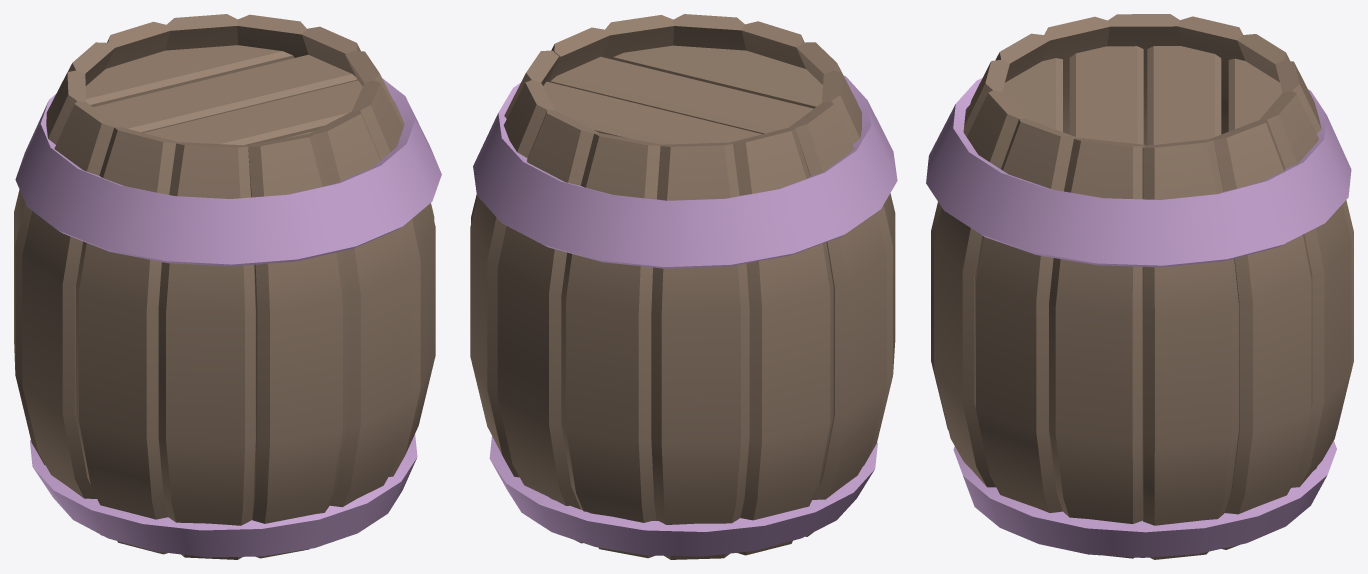
File: barrel pink.fbx
3 renders of one model, left to right at view 1: azimuth 30°, elevation 25°; view 2: azimuth 150°, elevation 25°; view 3: azimuth 270°, elevation 25°, orthographic.
Visible parts, largest first — view 1: polySurface63; view 2: polySurface63; view 3: polySurface63.
Part boxes in pixels (x1,y1,x2,y2): polySurface63: [14, 14, 441, 559]; polySurface63: [470, 14, 897, 559]; polySurface63: [926, 14, 1353, 559].
Size of the model in its own units: 1.56 by 1.67 by 1.57.
